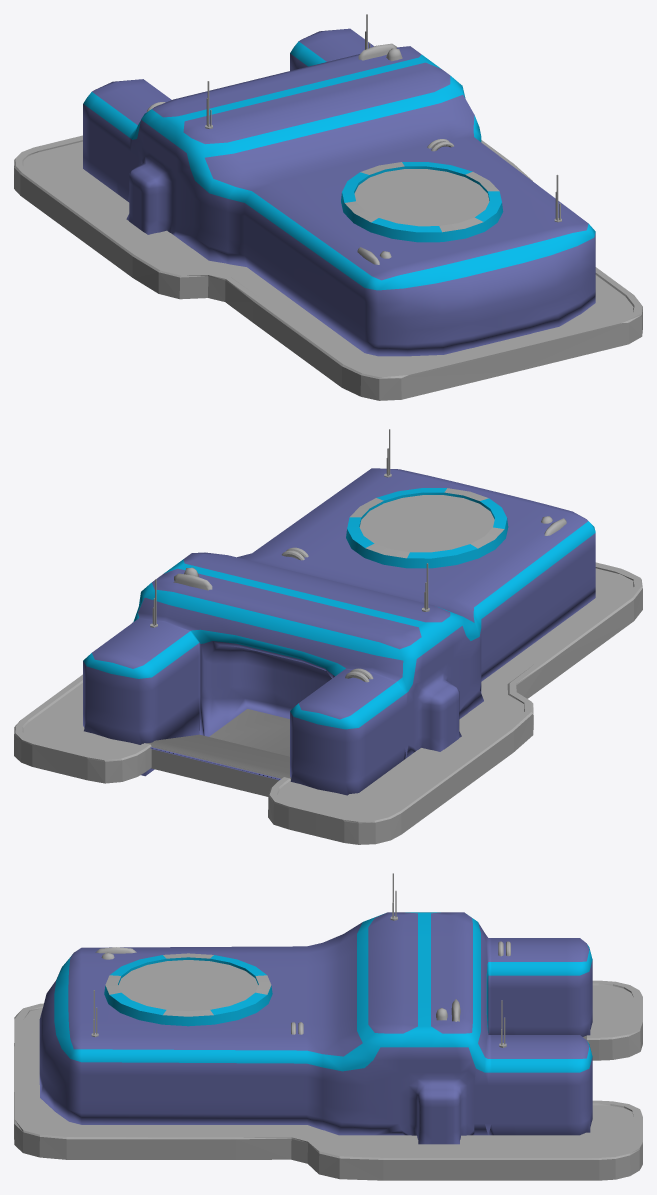
Rendered from VehicleBay.fbx.
3 renders of one model, top to bottom at view 1: azimuth 30°, elevation 25°; view 2: azimuth 150°, elevation 25°; view 3: azimuth 270°, elevation 25°, orthographic. The views are drawn at different scales.
Parts seen in each view (by area): view 1: pCylinder3, pCube13; view 2: pCylinder3, pCube13; view 3: pCylinder3, pCube13.
Part boxes in pixels (x1=…): pCylinder3: x1=83, y1=14, x2=595, y2=356; pCube13: x1=14, y1=135, x2=642, y2=400; pCylinder3: x1=83, y1=429, x2=595, y2=795; pCube13: x1=14, y1=562, x2=642, y2=844; pCylinder3: x1=39, y1=873, x2=592, y2=1144; pCube13: x1=14, y1=980, x2=642, y2=1180.
Bounding box in the file's own units: 376 × 170 × 560.
